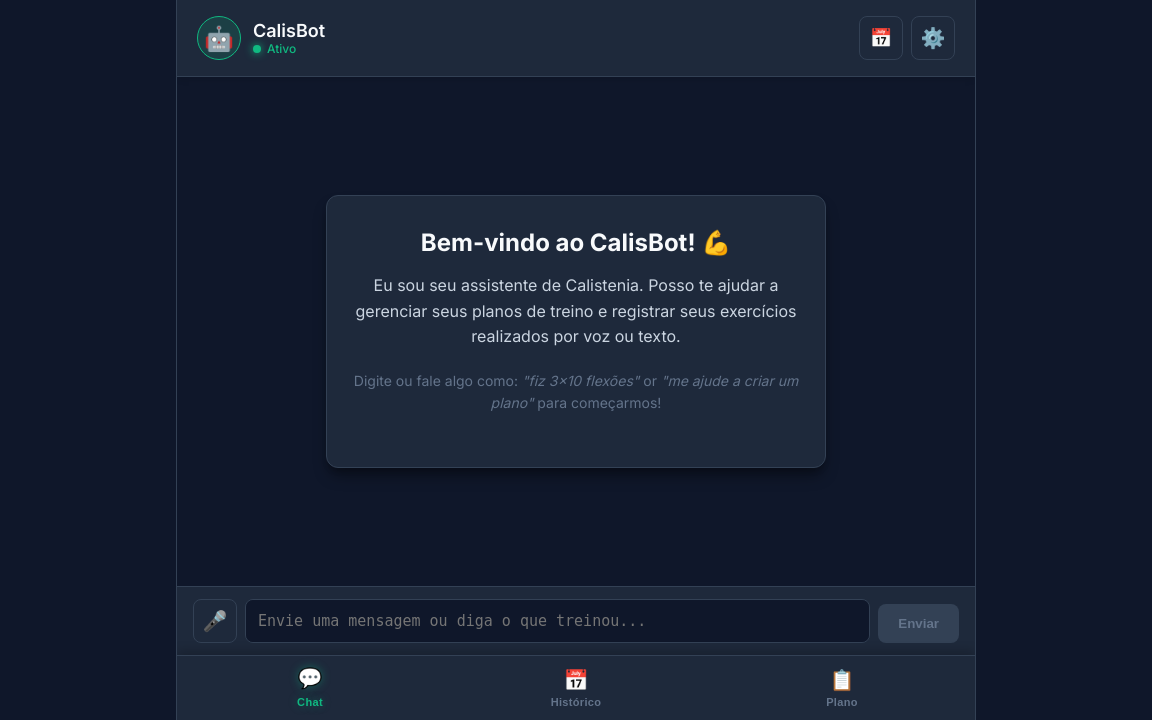
Test case: CalisBot App & Components › prompts user to save when Gemini returns edit_plan action, and updates IndexedDB upon confirmation
Note: Send edit command
Type "adicione barra na segunda" into the text box with placeholder "Envie uma mensagem ou diga o que treinou...". click: [558, 621]
box: x1=245 y1=599 x2=870 y2=643
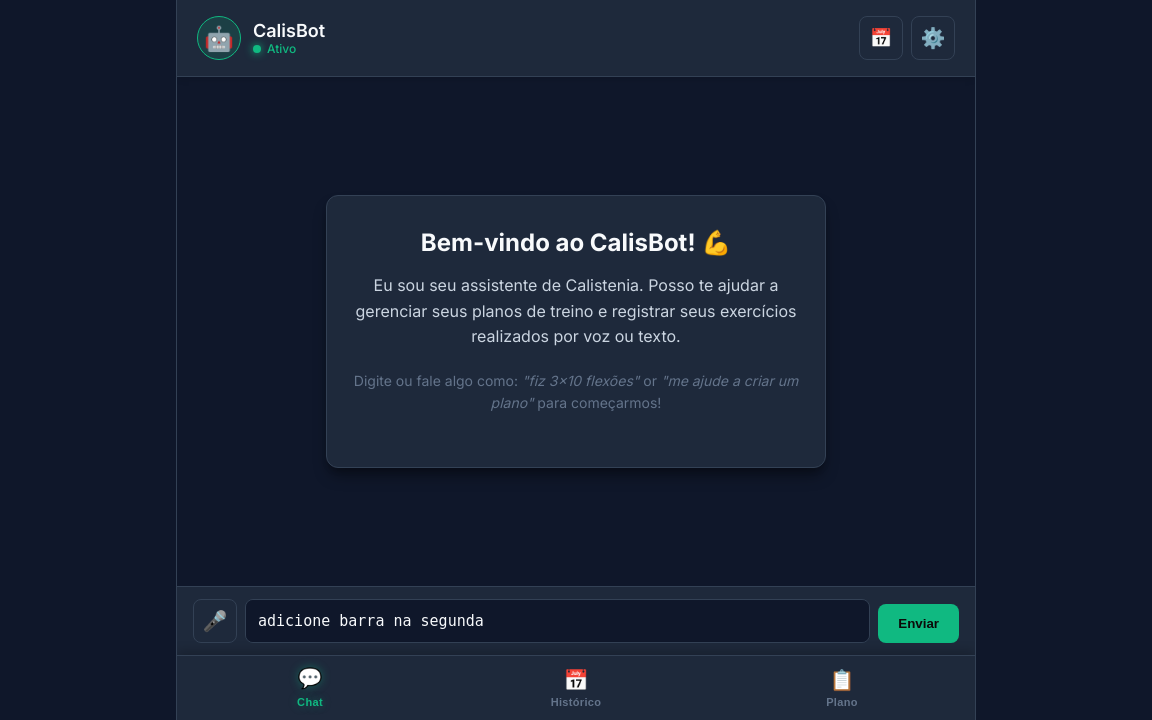
Click the button with aria-label "Enviar mensagem". click: [919, 624]
box: x1=878 y1=604 x2=959 y2=643
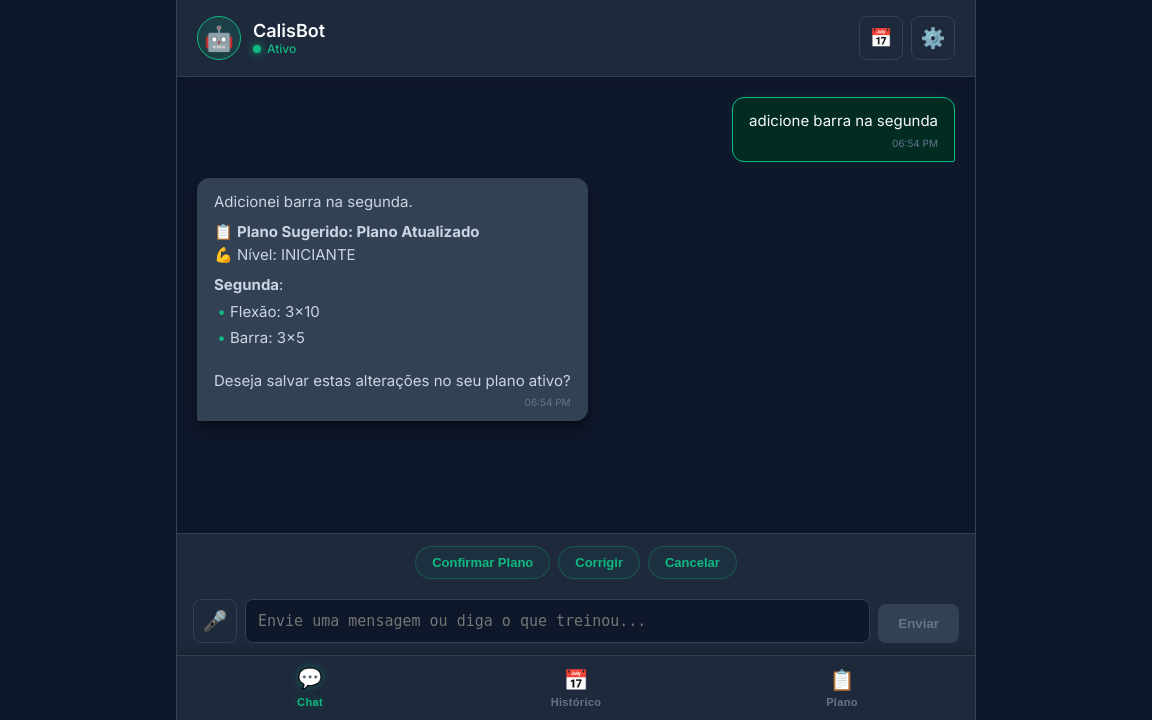
Result: the text "Adicionei barra na segunda." is shown at x1=214 y1=192 x2=413 y2=210
Result: the text "Plano Sugerido: Plano Atualizado" is shown at x1=237 y1=222 x2=480 y2=241
Result: the text "Deseja salvar estas alterações no seu plano ativo?" is shown at x1=214 y1=370 x2=571 y2=392
Note: Click quick option 'Confirmar Plano'
Click the button "Confirmar Plano". click: [483, 562]
box: x1=415 y1=546 x2=550 y2=579
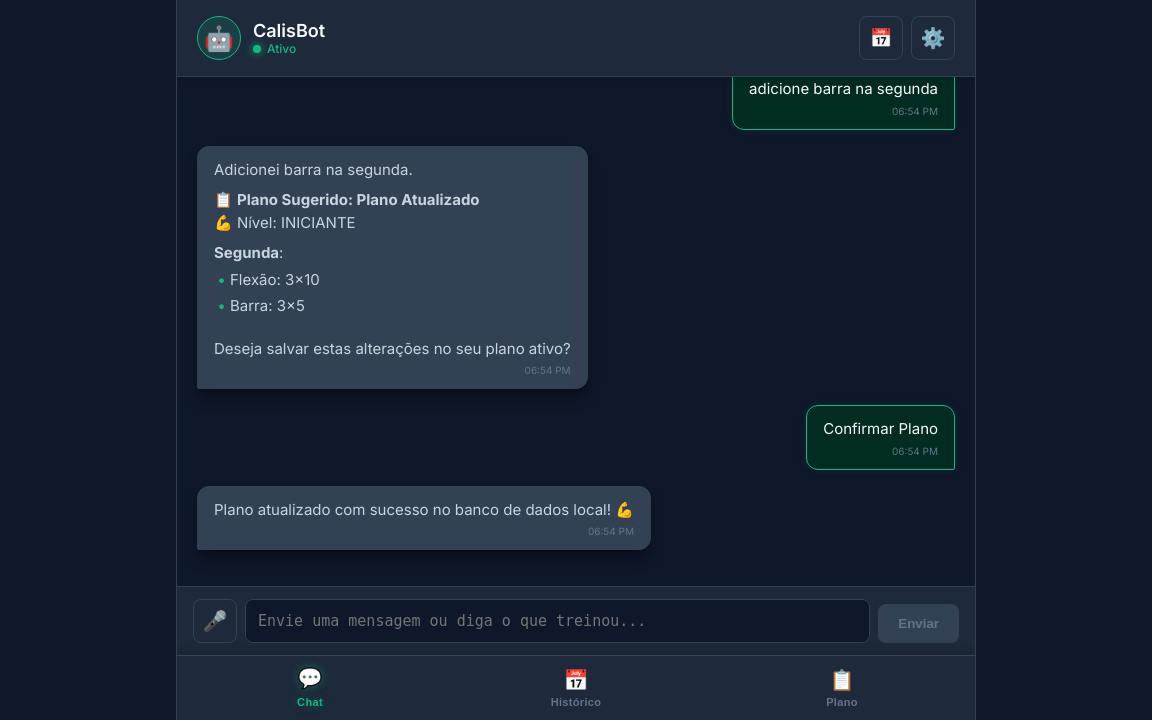
Result: the text "Plano atualizado com sucesso no banco de dados local! 💪" is shown at x1=214 y1=498 x2=634 y2=521
